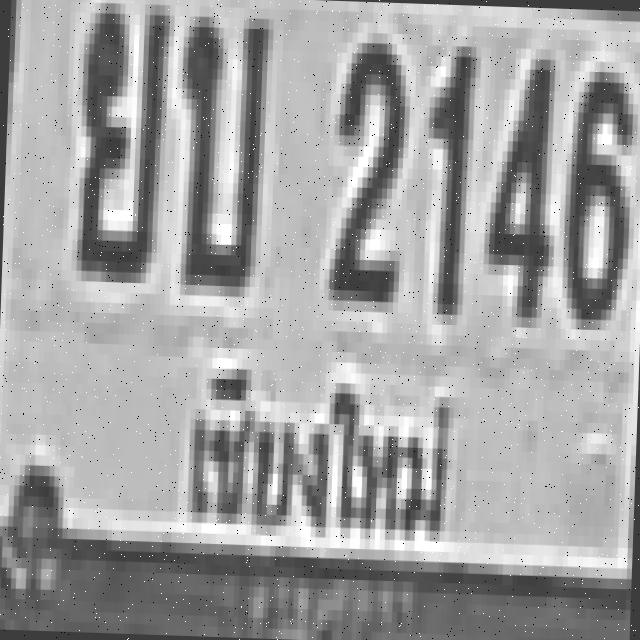1: (418, 34, 472, 304)
2: (324, 31, 402, 292)
35BorBaiMai: (170, 5, 269, 286)
4: (482, 48, 550, 318)
43YorYak: (71, 0, 165, 273)
6: (561, 60, 629, 320)
ChiangMai: (168, 340, 468, 562)
